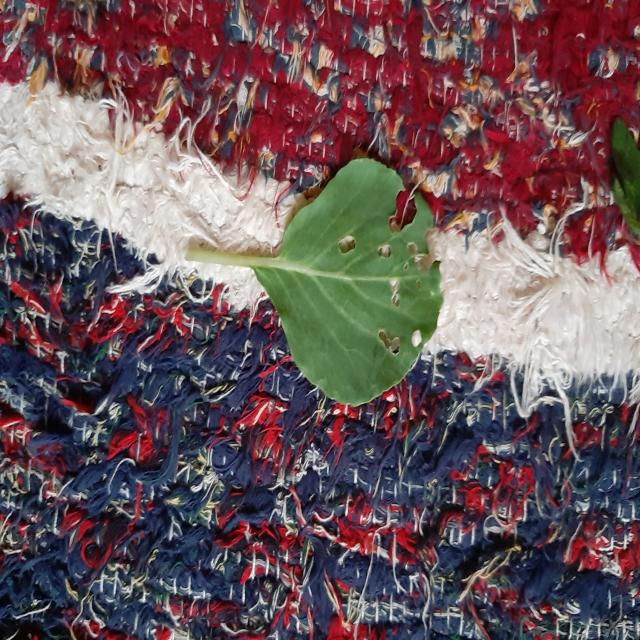Kohlrabi: (255, 160, 442, 404)
